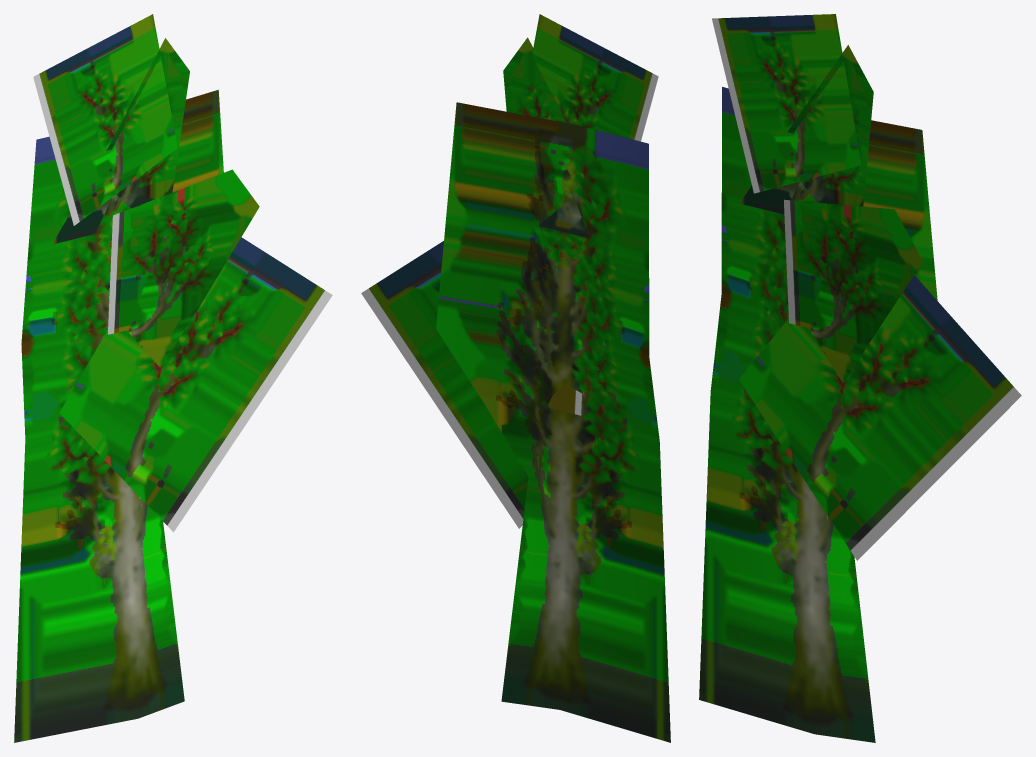
The model's file is street_vegetation_park_tree_topol_3.FBX.
The picture shows the model from 3 angles, left to right: view 1: azimuth 30°, elevation 25°; view 2: azimuth 150°, elevation 25°; view 3: azimuth 330°, elevation 25°; orthographic projection. The views are drawn at different scales.
Parts seen in each view (by area): view 1: street_vegetation_park_tree_topol_3; view 2: street_vegetation_park_tree_topol_3; view 3: street_vegetation_park_tree_topol_3.
Part boxes in pixels (left/top/right/bottom): street_vegetation_park_tree_topol_3: left=14, top=14, right=332, bottom=742; street_vegetation_park_tree_topol_3: left=361, top=14, right=670, bottom=742; street_vegetation_park_tree_topol_3: left=699, top=14, right=1021, bottom=742.
Bounding box in the file's own units: 3575 × 7565 × 463.
Materials: 1 (1 with a texture image).
